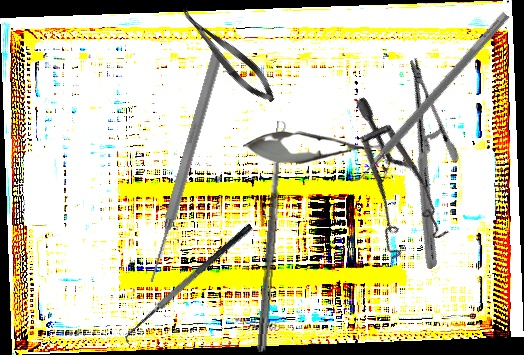Micro Scissor: (173, 0, 283, 110), (243, 130, 384, 164)
Needle Holder: (326, 56, 520, 271)
Pusher: (143, 49, 226, 285)
Spatula Surgical: (346, 5, 510, 190), (117, 222, 263, 349)
Speculum: (293, 95, 480, 276)
Surgical Spoon: (256, 121, 288, 353)
